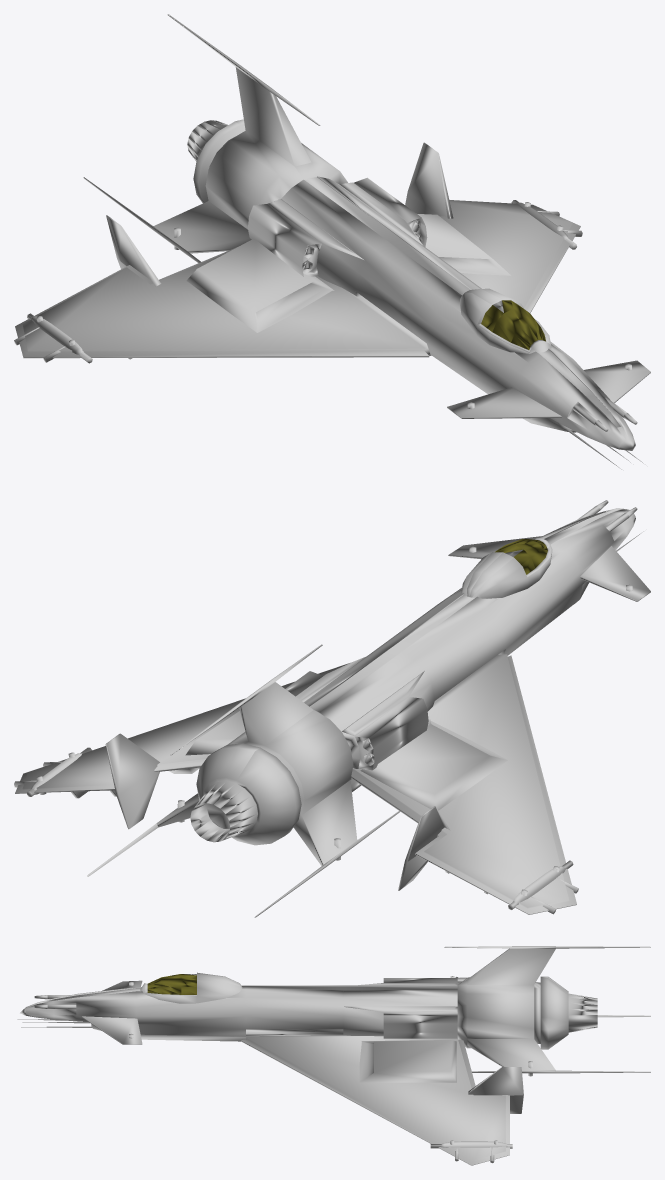
The model's file is Viper.fbx.
The picture shows the model from 3 angles, top to bottom: view 1: azimuth 30°, elevation 25°; view 2: azimuth 150°, elevation 25°; view 3: azimuth 270°, elevation 25°; orthographic projection. The views are drawn at different scales.
Visible parts, largest first — view 1: Viper; view 2: Viper; view 3: Viper.
Boxes of the visible parts, x1,y1,x2,y2 form: Viper: (14, 14, 650, 469); Viper: (14, 500, 650, 917); Viper: (17, 946, 650, 1165).
Size of the model in its own units: 280 by 89.2 by 407.
